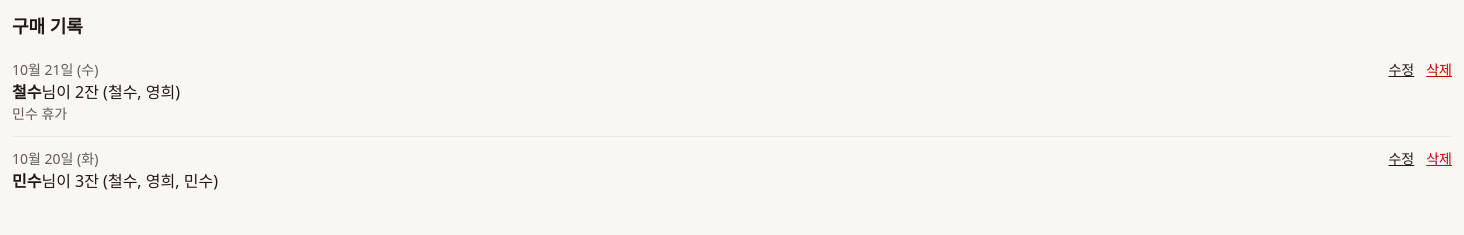
PurchaseHistory › shows an error when deleting fails
Step 1. Click the button "삭제" in the row of "10월 20일 (화)" → (1439, 159), box [1426,149,1452,169]
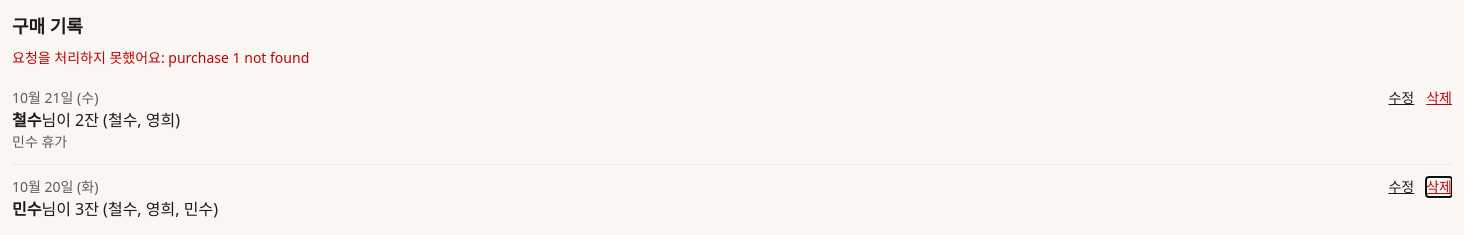
Expected: the message shows "purchase 1 not found", [12,48,309,67]
